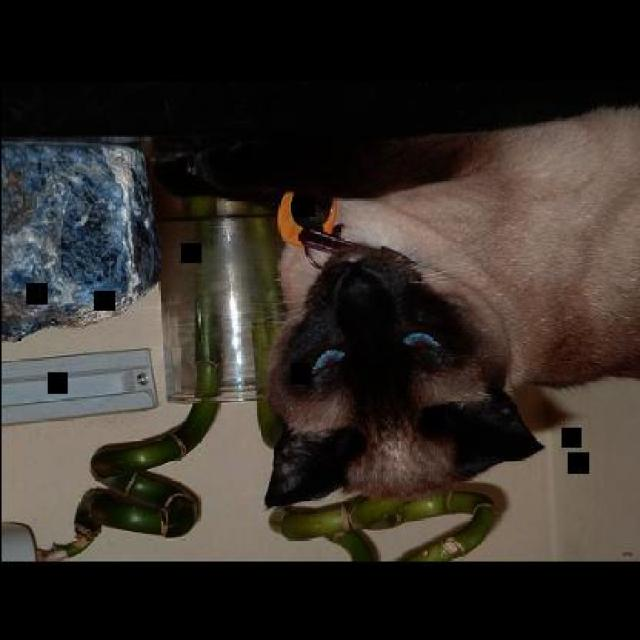unauthorized: (151, 100, 638, 511)
